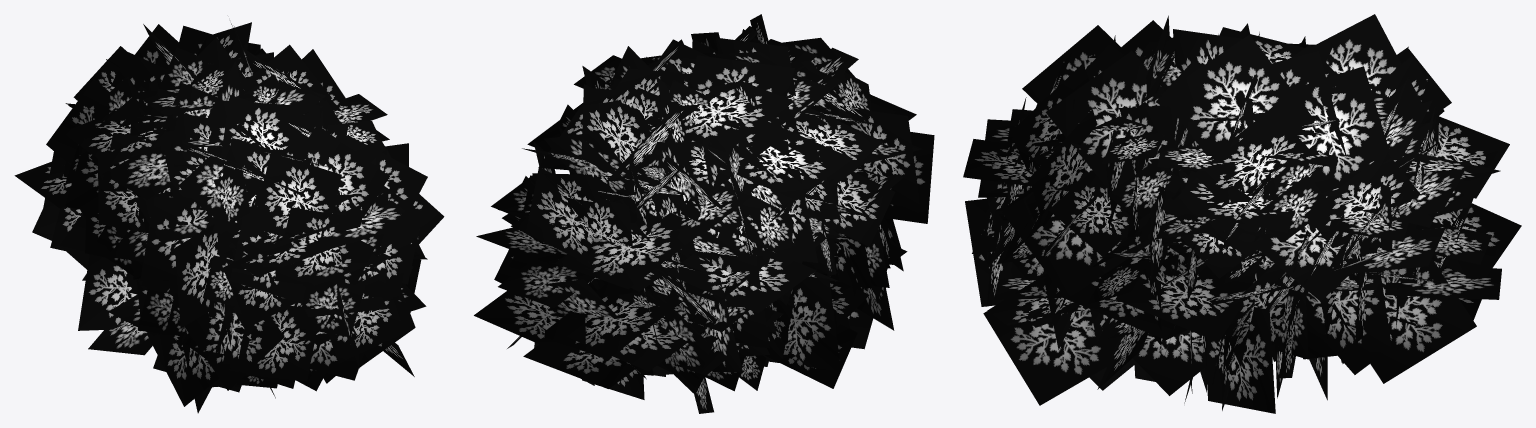
The model's file is SM_Bush_01.glb.
3 renders of one model, left to right at view 1: azimuth 30°, elevation 25°; view 2: azimuth 150°, elevation 25°; view 3: azimuth 270°, elevation 25°, orthographic. The views are drawn at different scales.
Visible parts, largest first — view 1: SM_Bush_01_LOD0; view 2: SM_Bush_01_LOD0; view 3: SM_Bush_01_LOD0.
Part boxes in pixels (x1,y1,x2,y2): SM_Bush_01_LOD0: [14, 22, 444, 413]; SM_Bush_01_LOD0: [474, 14, 934, 413]; SM_Bush_01_LOD0: [963, 14, 1521, 413].
Size of the model in its own units: 3.23 by 3.19 by 4.54.
1 material, 1 textured.
